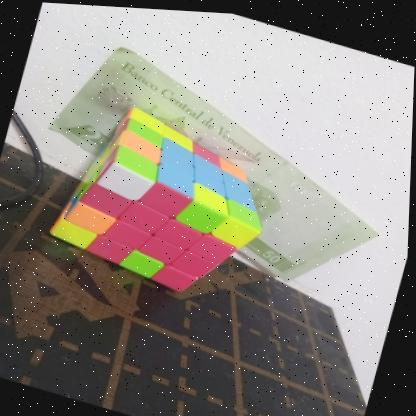fifty-back-vef: (26, 28, 412, 302)
